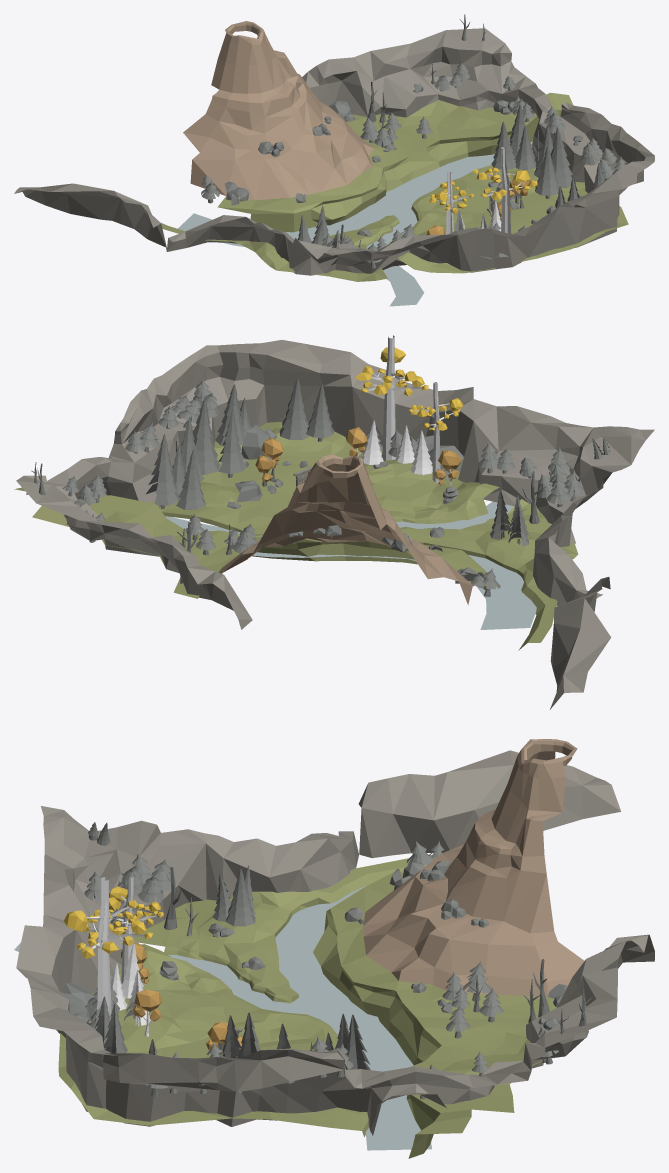
File: Shem.fbx
3 views of the same model, one above another, from view 1: azimuth 30°, elevation 25°; view 2: azimuth 150°, elevation 25°; view 3: azimuth 270°, elevation 25° (orthographic). The views are drawn at different scales.
Visible parts, largest first — view 1: Object008, huoshan, dimian2.004, Object013, dimian2.002, Object006.001, Object006.000, Object016, Object062.001, Object057.001; view 2: Object008, Object013, dimian2.004, huoshan, dimian2.002, Object006.001, Object062.001, Object016, Object057.001, Object037.001, Object013.001, Object006.000; view 3: Object008, dimian2.004, huoshan, Object013, dimian2.002, Object006.001, Object062.001, Object016, Object006.000, Object057.001, Object037.001.
Part boxes in pixels (x1=…): Object008: x1=14, y1=28, x2=654, y2=275; huoshan: x1=183, y1=21, x2=373, y2=200; dimian2.004: x1=161, y1=92, x2=628, y2=281; Object013: x1=201, y1=14, x2=626, y2=268; dimian2.002: x1=250, y1=109, x2=561, y2=248; Object006.001: x1=177, y1=141, x2=532, y2=306; Object006.000: x1=366, y1=206, x2=423, y2=296; Object016: x1=429, y1=167, x2=538, y2=213; Object062.001: x1=437, y1=147, x2=529, y2=234; Object057.001: x1=426, y1=175, x2=530, y2=235; Object008: x1=16, y1=340, x2=654, y2=709; Object013: x1=31, y1=378, x2=610, y2=596; dimian2.004: x1=14, y1=422, x2=578, y2=650; huoshan: x1=198, y1=454, x2=472, y2=605; dimian2.002: x1=252, y1=460, x2=486, y2=589; Object006.001: x1=165, y1=516, x2=536, y2=629; Object062.001: x1=356, y1=335, x2=453, y2=486; Object016: x1=355, y1=347, x2=463, y2=430; Object057.001: x1=255, y1=427, x2=462, y2=484; Object037.001: x1=361, y1=420, x2=432, y2=474; Object013.001: x1=227, y1=461, x2=458, y2=508; Object006.000: x1=396, y1=501, x2=513, y2=529; Object008: x1=16, y1=750, x2=654, y2=1135; dimian2.004: x1=58, y1=855, x2=556, y2=1137; huoshan: x1=363, y1=739, x2=584, y2=996; Object013: x1=62, y1=822, x2=591, y2=1100; dimian2.002: x1=118, y1=909, x2=441, y2=1158; Object006.001: x1=14, y1=885, x2=431, y2=1150; Object062.001: x1=85, y1=874, x2=156, y2=1036; Object016: x1=64, y1=886, x2=163, y2=959; Object006.000: x1=168, y1=955, x2=340, y2=1028; Object057.001: x1=121, y1=942, x2=243, y2=1052; Object037.001: x1=110, y1=943, x2=150, y2=1025.
Size of the model in its own units: 20509 by 5680 by 15125.
